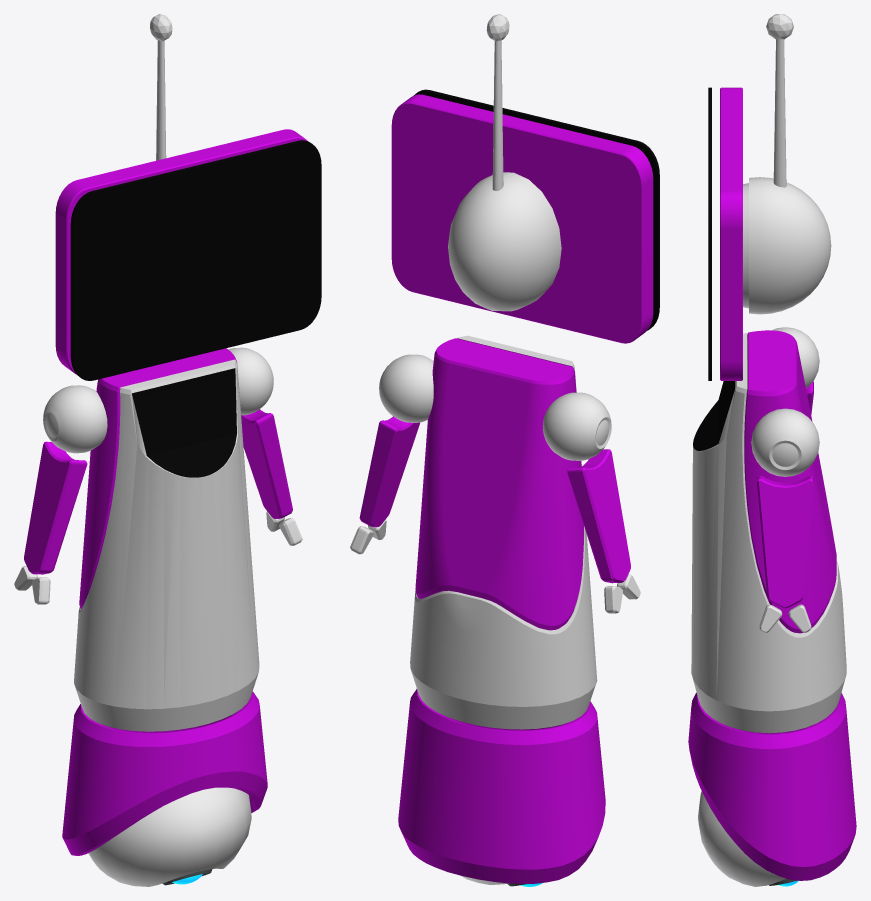
File: blit.glb
3 renders of one model, left to right at view 1: azimuth 30°, elevation 25°; view 2: azimuth 150°, elevation 25°; view 3: azimuth 270°, elevation 25°, orthographic.
Parts seen in each view (by area): view 1: Body_Screen_geo.001, Face_Case_geo.001, Middle_Section_geo.001, Outer_geo.001, Arm.003, Shoulder_R.001, Arm.002, Shoulder_L.001, Antenna.001; view 2: Body_Screen_geo.001, Face_Case_geo.001, Middle_Section_geo.001, Arm.003, Shoulder_R.001, Arm.002, Shoulder_L.001, Antenna.001; view 3: Body_Screen_geo.001, Middle_Section_geo.001, Face_Case_geo.001, Arm.002, Shoulder_L.001, Outer_geo.001, Antenna.001, Shoulder_R.001, AntennaTip.001, Finger_L1.001, Finger_L2.001.
Part boxes in pixels (x1,y1,x2,y2): Body_Screen_geo.001: [74, 348, 259, 731]; Face_Case_geo.001: [55, 129, 321, 380]; Middle_Section_geo.001: [62, 691, 267, 855]; Outer_geo.001: [88, 787, 251, 886]; Arm.003: [24, 441, 87, 574]; Shoulder_R.001: [43, 385, 107, 453]; Arm.002: [241, 409, 292, 518]; Shoulder_L.001: [228, 347, 273, 415]; Antenna.001: [156, 40, 166, 160]; Body_Screen_geo.001: [410, 335, 597, 729]; Face_Case_geo.001: [391, 89, 659, 343]; Middle_Section_geo.001: [398, 689, 605, 883]; Arm.003: [567, 449, 630, 583]; Shoulder_R.001: [542, 392, 611, 460]; Arm.002: [359, 416, 419, 527]; Shoulder_L.001: [379, 354, 433, 422]; Antenna.001: [492, 40, 503, 190]; Body_Screen_geo.001: [691, 330, 846, 733]; Middle_Section_geo.001: [688, 692, 856, 880]; Face_Case_geo.001: [708, 87, 831, 380]; Arm.002: [757, 475, 813, 608]; Shoulder_L.001: [751, 408, 819, 476]; Outer_geo.001: [698, 791, 786, 886]; Antenna.001: [773, 39, 786, 187]; Shoulder_R.001: [771, 327, 819, 387]; AntennaTip.001: [766, 14, 793, 39]; Finger_L1.001: [759, 604, 782, 632]; Finger_L2.001: [788, 604, 811, 632].
Bounding box in the file's own units: 0.3473 × 1.07 × 0.1904.
5 materials, 1 textured.
